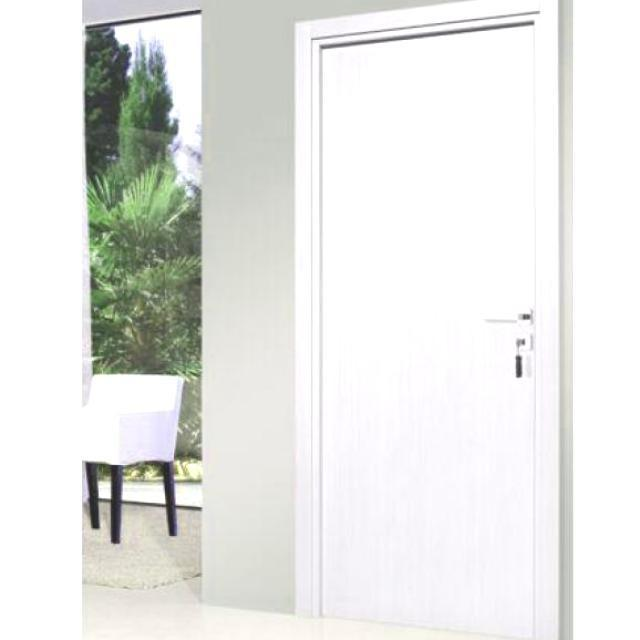door: (297, 0, 563, 639)
